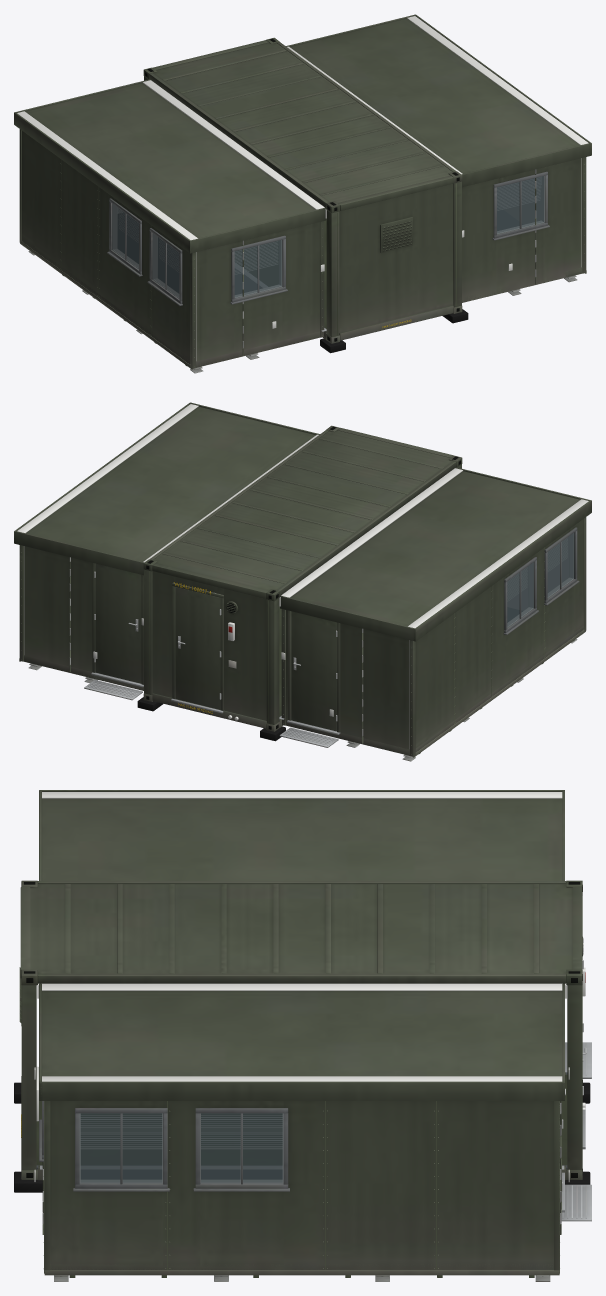
Rendered from hercon-ar.glb.
3 renders of one model, top to bottom at view 1: azimuth 30°, elevation 25°; view 2: azimuth 150°, elevation 25°; view 3: azimuth 270°, elevation 25°, orthographic. The views are drawn at different scales.
Parts seen in each view (by area): view 1: HERCON_expansion_L, HERCON_core, HERCON_expansion_R; view 2: HERCON_expansion_L, HERCON_core, HERCON_expansion_R; view 3: HERCON_expansion_R, HERCON_core, HERCON_expansion_L, HERCON_interior.
Part boxes in pixels (<box>): HERCON_expansion_L: <box>14,79,325,373</box>; HERCON_core: <box>143,37,468,353</box>; HERCON_expansion_R: <box>286,14,591,302</box>; HERCON_expansion_L: <box>279,467,591,761</box>; HERCON_core: <box>137,425,462,741</box>; HERCON_expansion_R: <box>14,402,319,700</box>; HERCON_expansion_R: <box>39,983,591,1281</box>; HERCON_core: <box>14,880,590,1192</box>; HERCON_expansion_L: <box>39,790,591,1078</box>; HERCON_interior: <box>34,983,569,1182</box>.
Bounding box in the file's own units: 7.48 × 2.56 × 6.24.
Materials: 16 (5 with a texture image).
